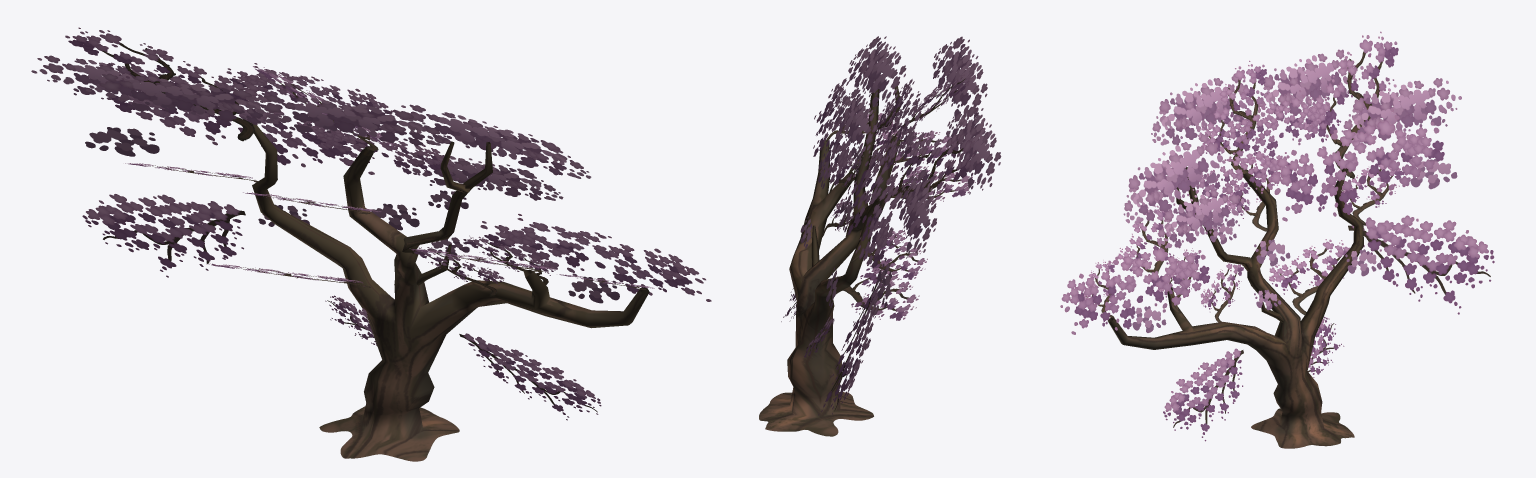
Rendered from blossom_tree.fbx.
The picture shows the model from 3 angles, left to right: view 1: azimuth 30°, elevation 25°; view 2: azimuth 150°, elevation 25°; view 3: azimuth 270°, elevation 25°; orthographic projection. The views are drawn at different scales.
Parts seen in each view (by area): view 1: tree_blossom_02; view 2: tree_blossom_02; view 3: tree_blossom_02.
Boxes of the visible parts, left/top/right/bottom form: tree_blossom_02: left=31, top=27, right=711, bottom=461; tree_blossom_02: left=759, top=36, right=1001, bottom=436; tree_blossom_02: left=1060, top=31, right=1494, bottom=448.
Bounding box in the file's own units: 1111 × 1043 × 1406.
